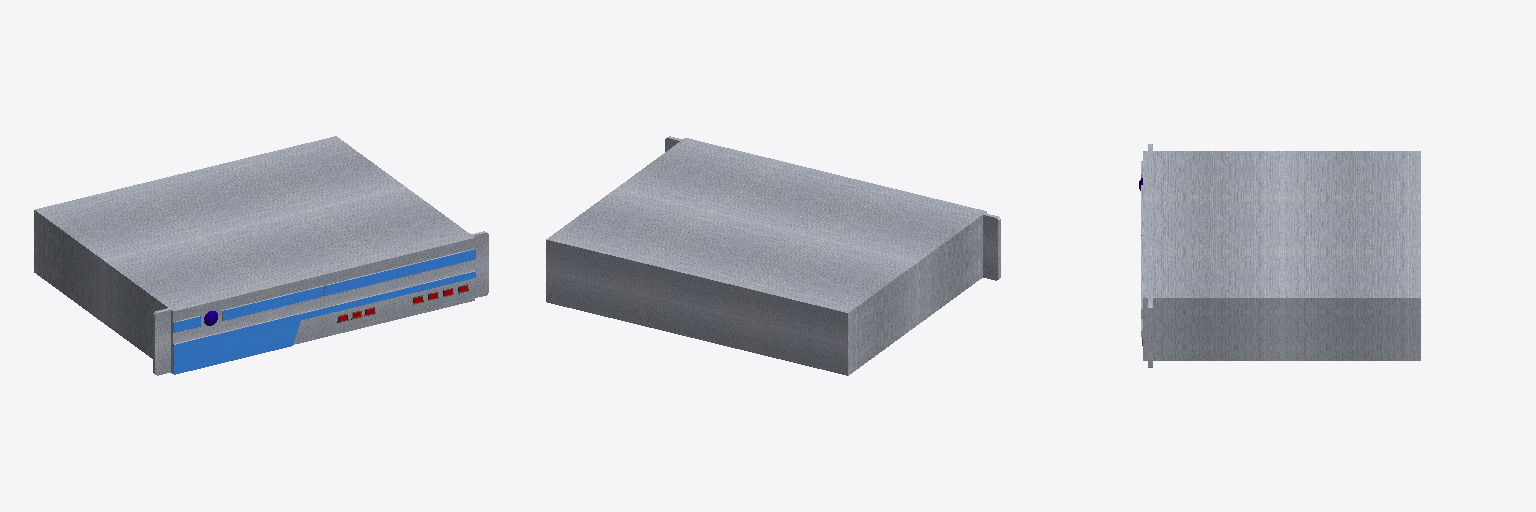
3 views of the same model, side by side, from view 1: azimuth 30°, elevation 25°; view 2: azimuth 150°, elevation 25°; view 3: azimuth 270°, elevation 25° (orthographic).
Visible parts, largest first — view 1: FQ; view 2: FQ; view 3: FQ.
Boxes of the visible parts, box(x1,y1,x2,y2) form: FQ: box(34, 136, 488, 375); FQ: box(546, 136, 1000, 375); FQ: box(1139, 144, 1420, 367).
Bounding box in the file's own units: 2.01 × 0.3616 × 1.48.
2 materials, 2 textured.